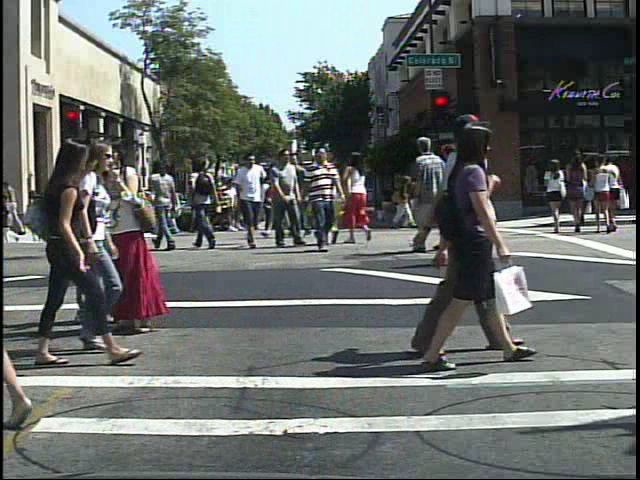person: (411, 113, 535, 377), (429, 106, 502, 363), (109, 132, 197, 343), (73, 137, 131, 353), (84, 135, 129, 333), (452, 127, 506, 263), (407, 132, 452, 260), (296, 143, 343, 255), (311, 140, 353, 252), (441, 136, 479, 257), (265, 143, 303, 252), (341, 146, 381, 248), (234, 147, 270, 255), (149, 155, 184, 254), (186, 154, 220, 250), (542, 153, 570, 235), (212, 169, 232, 237), (65, 182, 85, 232)
